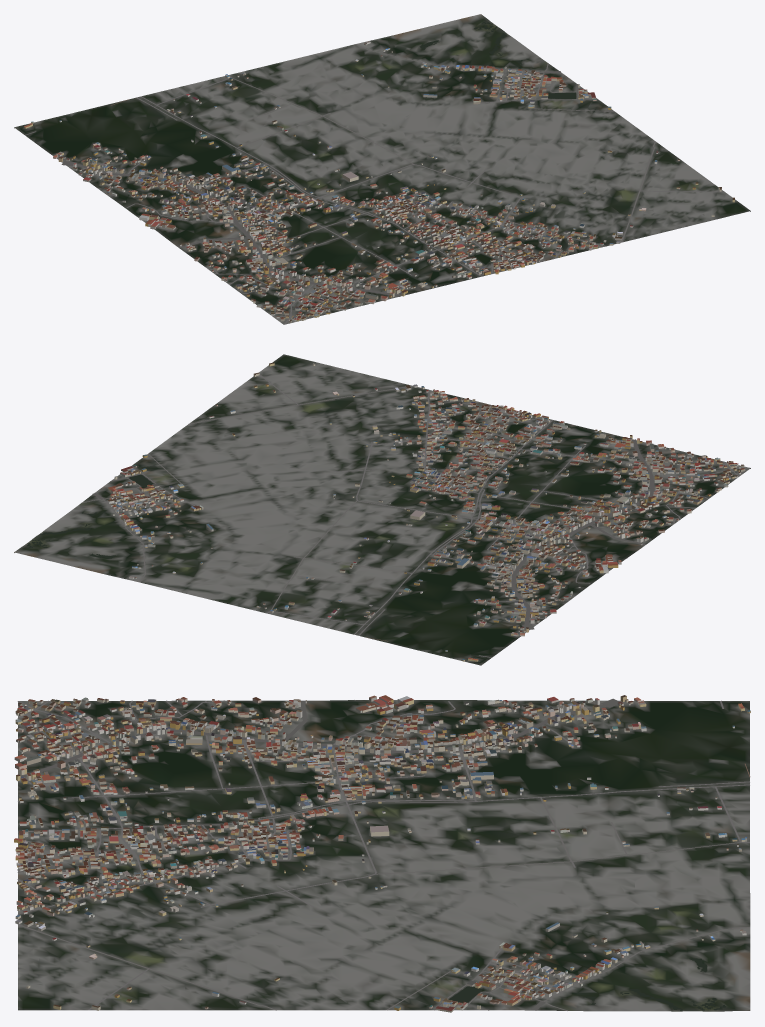
The picture shows the model from 3 angles, top to bottom: view 1: azimuth 30°, elevation 25°; view 2: azimuth 150°, elevation 25°; view 3: azimuth 270°, elevation 25°; orthographic projection. The views are drawn at different scales.
Visible parts, largest first — view 1: ground, buildings, roads; view 2: ground, buildings, roads, water; view 3: ground, buildings, roads, water.
Boxes of the visible parts, box(x1,y1,x2,y2) form: ground: box(14, 14, 750, 324); buildings: box(23, 41, 734, 323); roads: box(25, 44, 724, 324); ground: box(14, 354, 750, 665); buildings: box(107, 362, 745, 661); roads: box(81, 374, 750, 657); water: box(27, 474, 153, 558); ground: box(18, 700, 750, 1011); buildings: box(14, 695, 750, 1012); roads: box(17, 698, 750, 1010); water: box(449, 958, 725, 1010).
Bounding box in the file's own units: 1420 × 19.07 × 1411.
